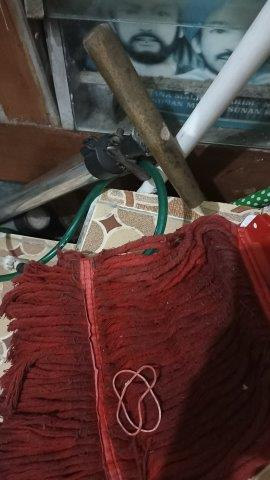karet: (112, 364, 163, 436)
